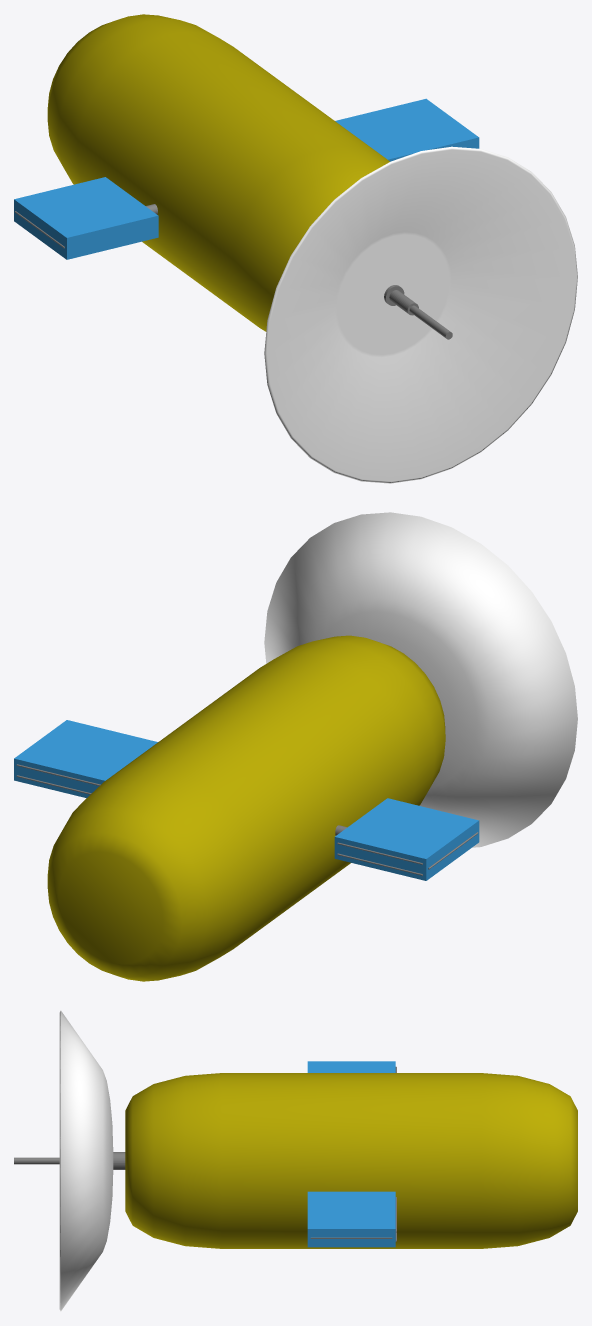
File: sat_1.glb
The picture shows the model from 3 angles, top to bottom: view 1: azimuth 30°, elevation 25°; view 2: azimuth 150°, elevation 25°; view 3: azimuth 270°, elevation 25°; orthographic projection. The views are drawn at different scales.
Parts seen in each view (by area): view 1: Cylinder.002, Cylinder, Panel.009, Panel.002, Cylinder.001; view 2: Cylinder, Cylinder.002, Panel.009, Panel.002; view 3: Cylinder, Cylinder.002, Panel.002, Panel.009, Cylinder.001.
Part boxes in pixels (bbox=[...]): Cylinder.002: bbox=[264, 146, 577, 483]; Cylinder: bbox=[47, 14, 389, 331]; Panel.009: bbox=[14, 177, 158, 240]; Panel.002: bbox=[335, 98, 479, 161]; Cylinder.001: bbox=[384, 285, 452, 339]; Cylinder: bbox=[47, 635, 445, 981]; Cylinder.002: bbox=[264, 512, 577, 847]; Panel.009: bbox=[334, 798, 479, 861]; Panel.002: bbox=[14, 720, 157, 782]; Cylinder: bbox=[125, 1073, 577, 1248]; Cylinder.002: bbox=[59, 1010, 113, 1311]; Panel.002: bbox=[307, 1191, 395, 1231]; Panel.009: bbox=[307, 1061, 395, 1072]; Cylinder.001: bbox=[14, 1152, 125, 1169].
Size of the model in its own units: 4.53 by 3.42 by 6.4.
